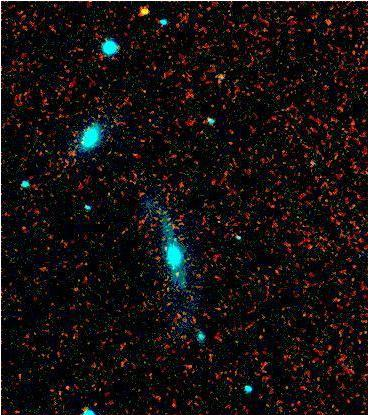star: (126, 0, 156, 26)
